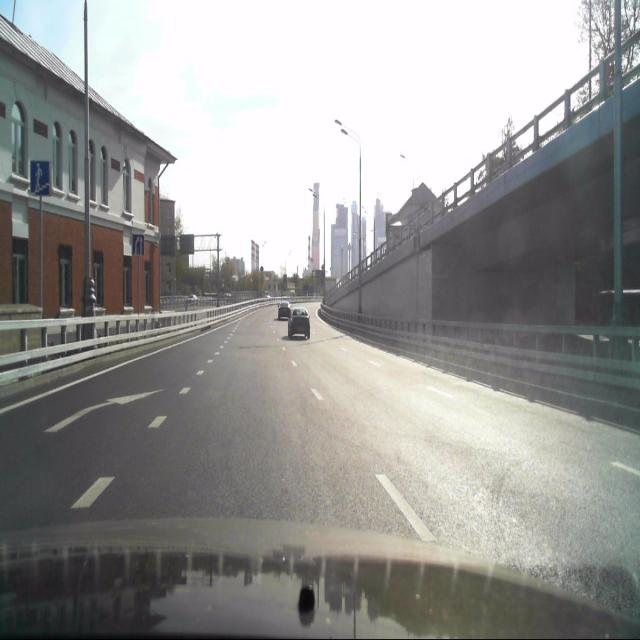road sign: (29, 158, 50, 196), (132, 234, 144, 254)
